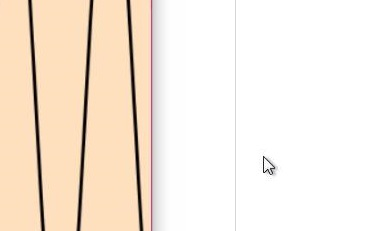cursor: (261, 154, 275, 176)
